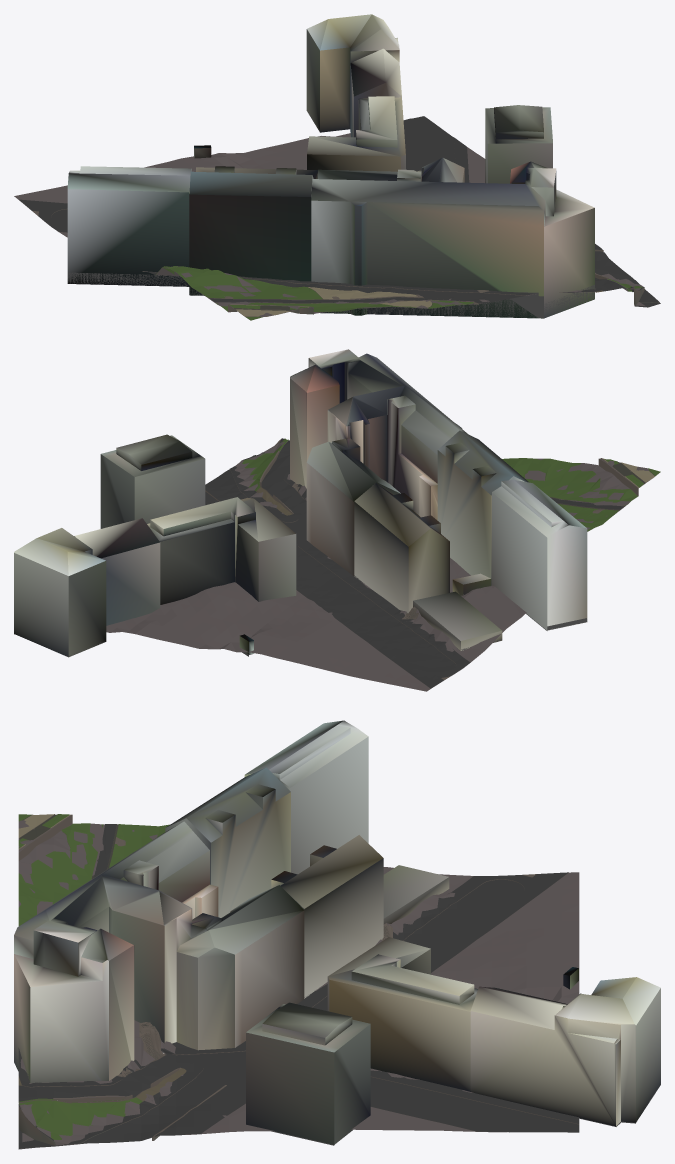
3 views of the same model, one above another, from view 1: azimuth 30°, elevation 25°; view 2: azimuth 150°, elevation 25°; view 3: azimuth 270°, elevation 25° (orthographic). The views are drawn at different scales.
Parts seen in each view (by area): view 1: c_p05_m16; view 2: c_p05_m16; view 3: c_p05_m16.
Part boxes in pixels (box(x1,y1,x2,y2)): c_p05_m16: box(14, 14, 660, 320); c_p05_m16: box(14, 349, 660, 691); c_p05_m16: box(14, 720, 660, 1149).
Size of the model in its own units: 152 by 43.34 by 148.
